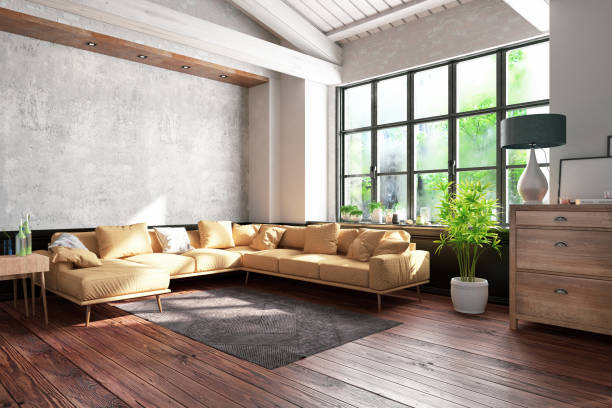large plant: (434, 173, 503, 316)
side table: (0, 249, 52, 325)
sofa: (30, 219, 433, 328)
table lamp: (497, 112, 568, 203)
